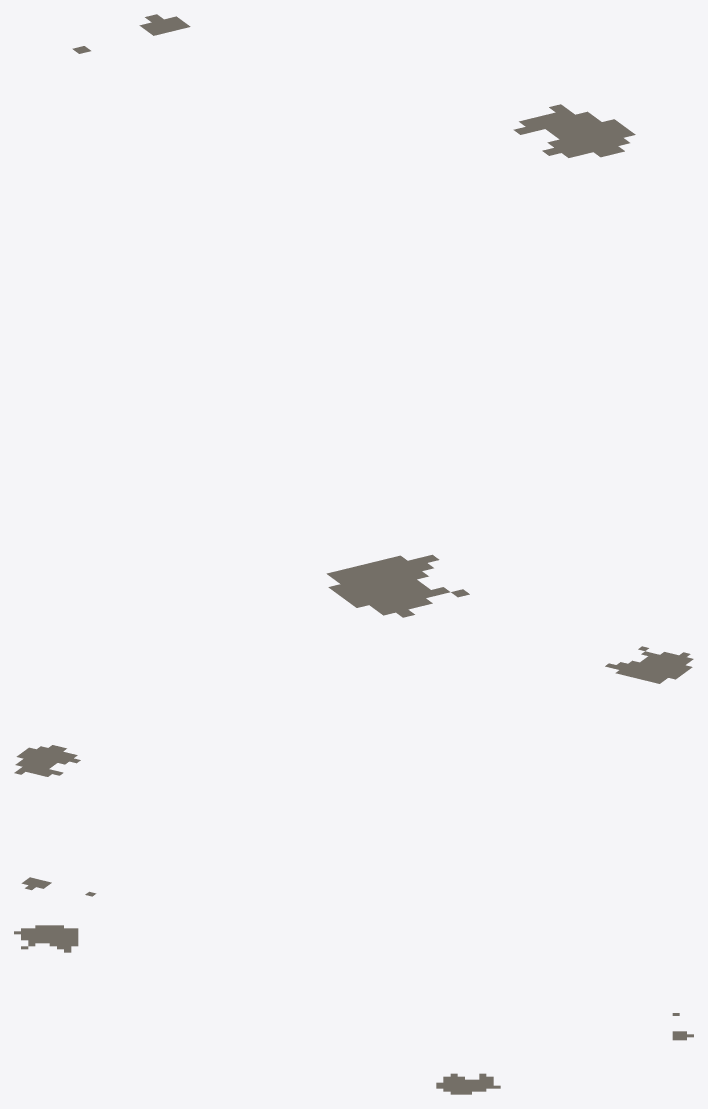
File: Isl-orc2-RocksArea.fbx
3 views of the same model, one above another, from view 1: azimuth 30°, elevation 25°; view 2: azimuth 150°, elevation 25°; view 3: azimuth 270°, elevation 25° (orthographic). The views are drawn at different scales.
Visible parts, largest first — view 1: Isl-orc2-RocksArea; view 2: Isl-orc2-RocksArea; view 3: Isl-orc2-RocksArea.
Boxes of the visible parts, x1,y1,x2,y2 form: Isl-orc2-RocksArea: [72, 14, 635, 617]; Isl-orc2-RocksArea: [14, 646, 693, 896]; Isl-orc2-RocksArea: [14, 925, 693, 1094].
Bounding box in the file's own units: 56 × 0 × 95.
